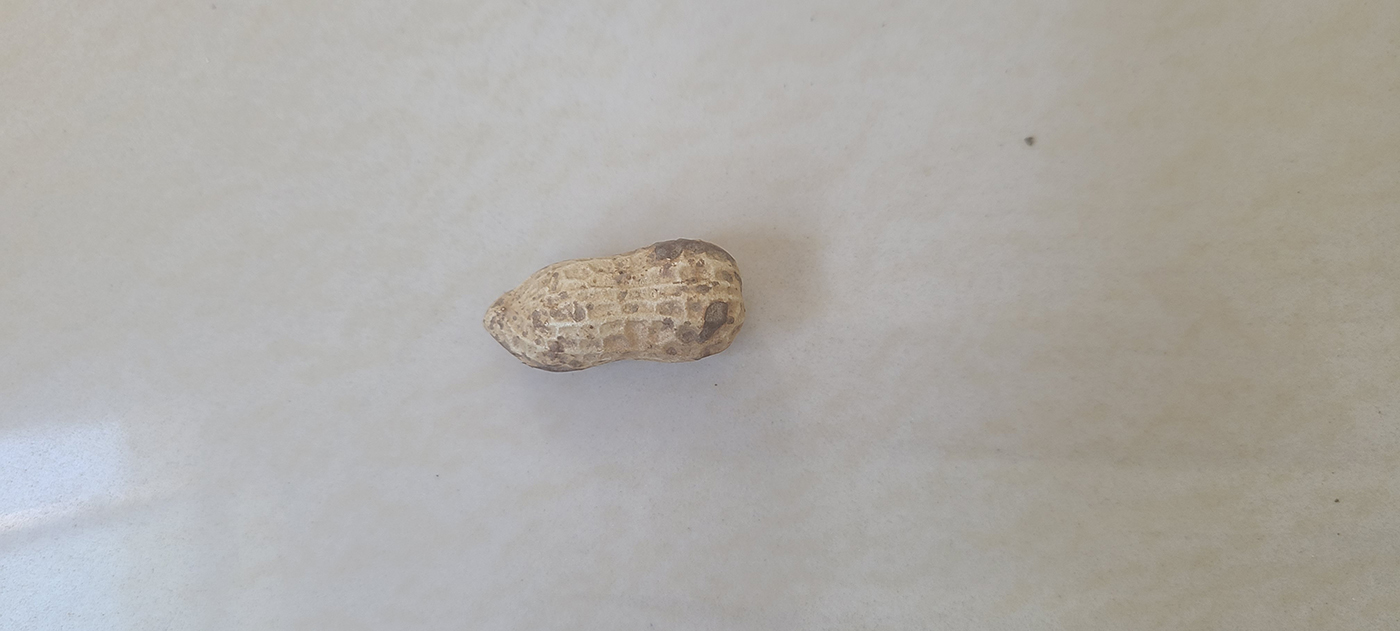h: (486, 239, 746, 374)
